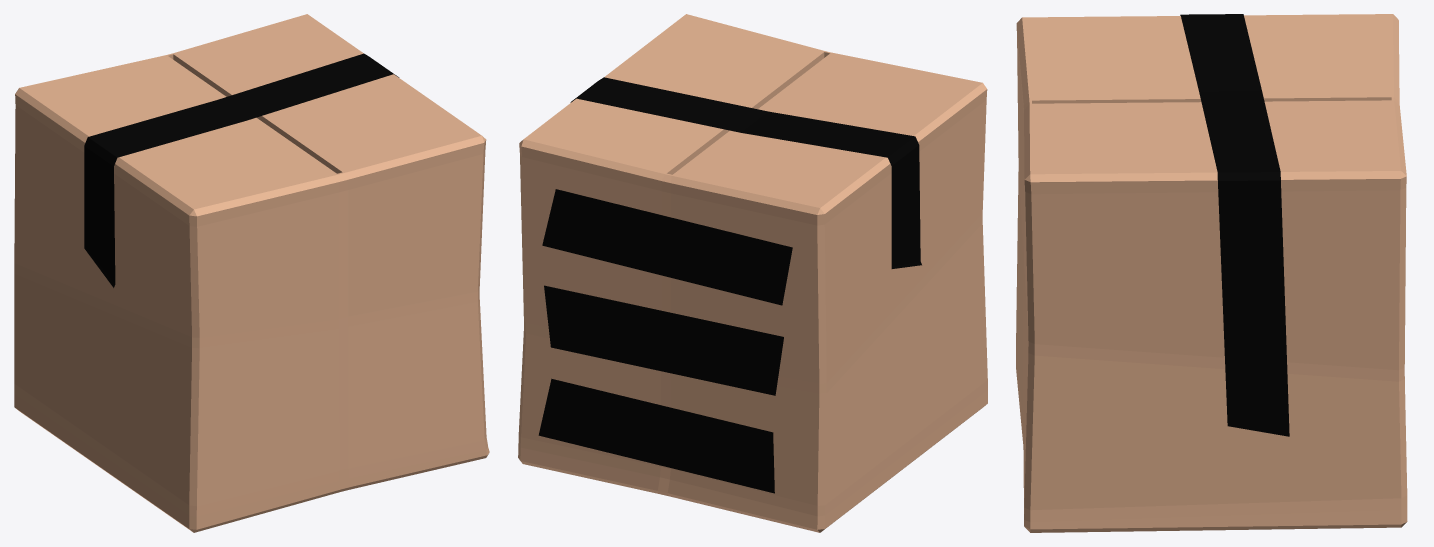
The model's file is box-menu.fbx.
3 views of the same model, side by side, from view 1: azimuth 30°, elevation 25°; view 2: azimuth 150°, elevation 25°; view 3: azimuth 270°, elevation 25° (orthographic). The views are drawn at different scales.
Parts seen in each view (by area): view 1: polySurface15; view 2: polySurface15; view 3: polySurface15.
Boxes of the visible parts, x1,y1,x2,y2 form: polySurface15: [14, 14, 489, 532]; polySurface15: [518, 14, 987, 532]; polySurface15: [1016, 14, 1407, 532].
Size of the model in its own units: 17.56 by 17.9 by 17.44.
